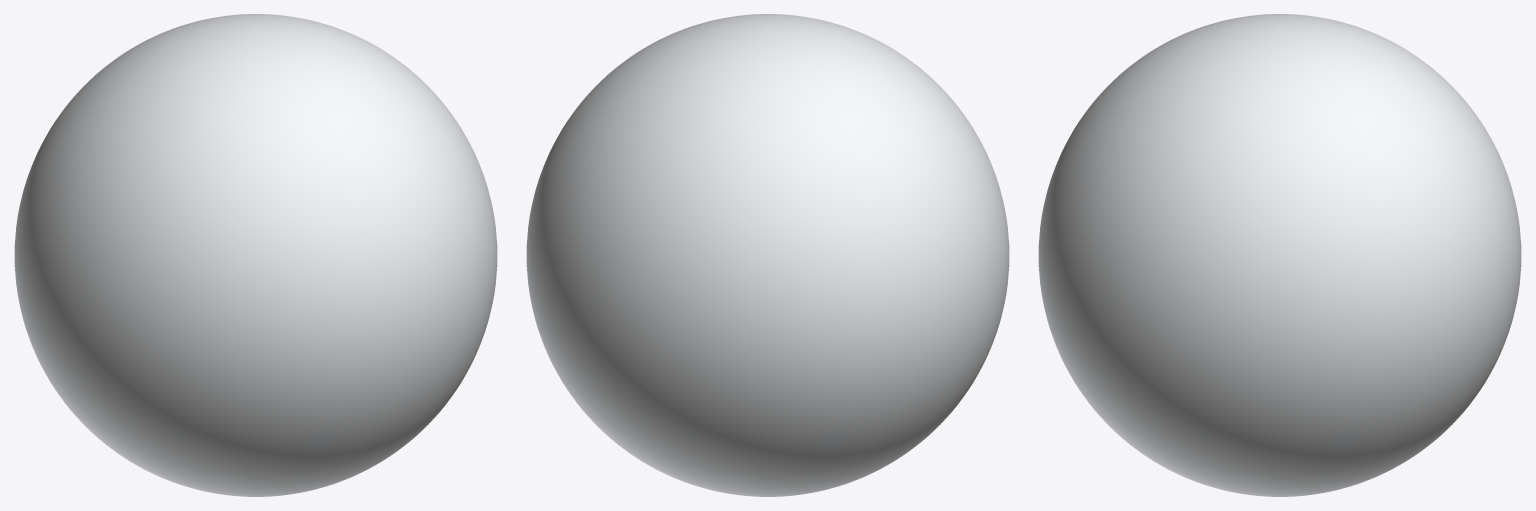
The picture shows the model from 3 angles, left to right: view 1: azimuth 30°, elevation 25°; view 2: azimuth 150°, elevation 25°; view 3: azimuth 270°, elevation 25°; orthographic projection.
Parts seen in each view (by area): view 1: Mesh_orb; view 2: Mesh_orb; view 3: Mesh_orb.
Part boxes in pixels (x1=…): Mesh_orb: x1=14, y1=14, x2=497, y2=496; Mesh_orb: x1=526, y1=14, x2=1009, y2=496; Mesh_orb: x1=1038, y1=14, x2=1521, y2=496.
Bounding box in the file's own units: 4.5 × 4.5 × 4.5.
Materials: 1 (1 with a texture image).
